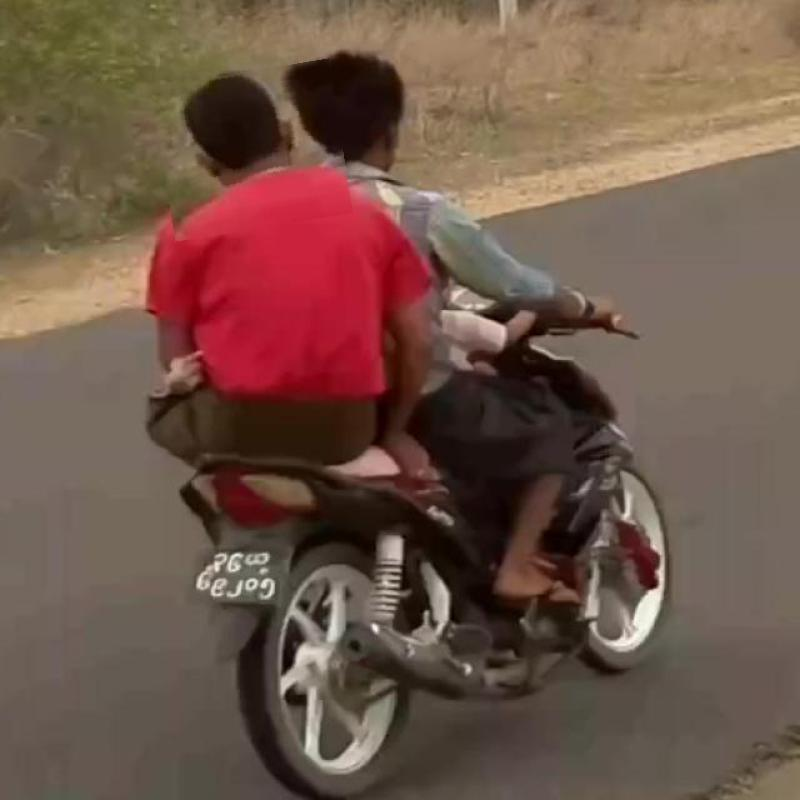nohelmet: (157, 65, 348, 235)
